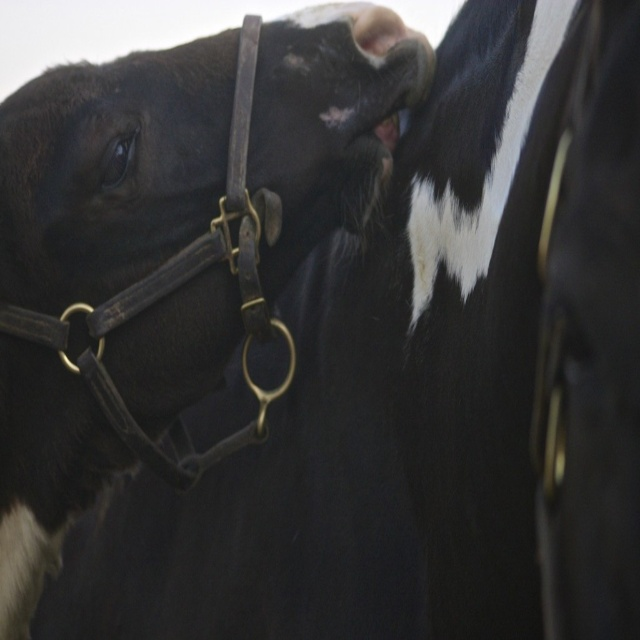Horse: (0, 0, 438, 639)
